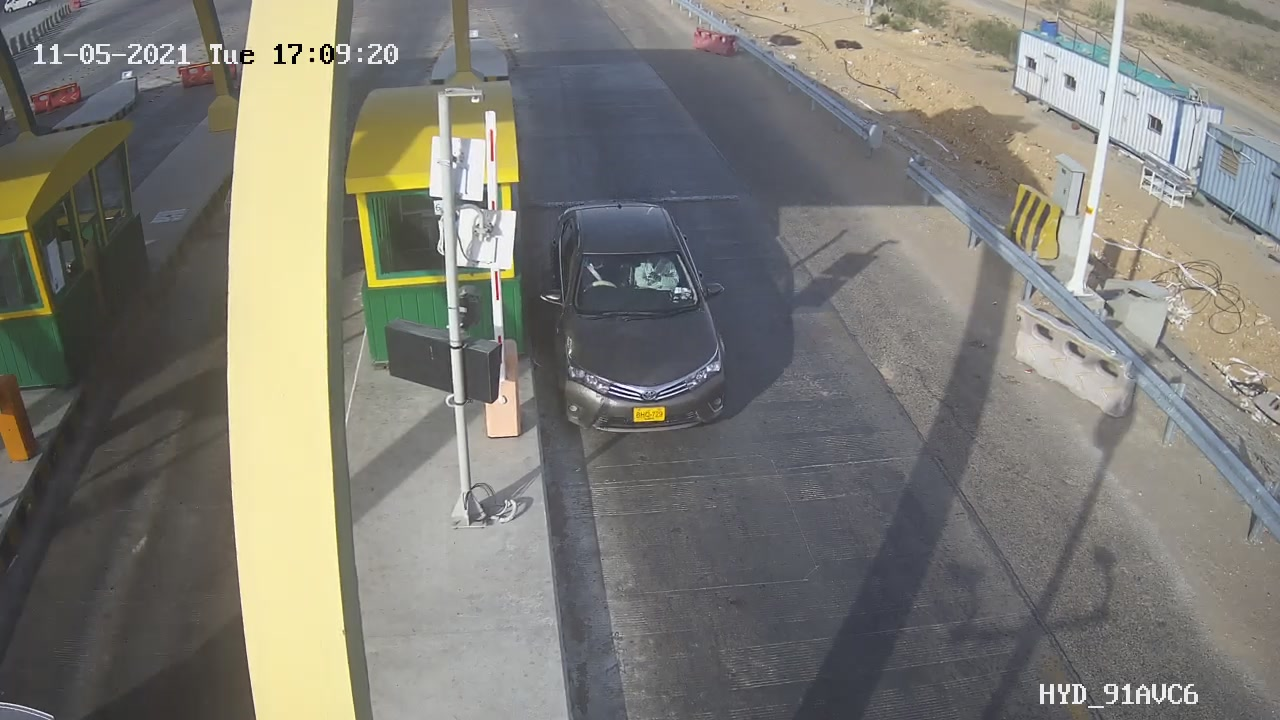F1: (518, 178, 759, 460)
